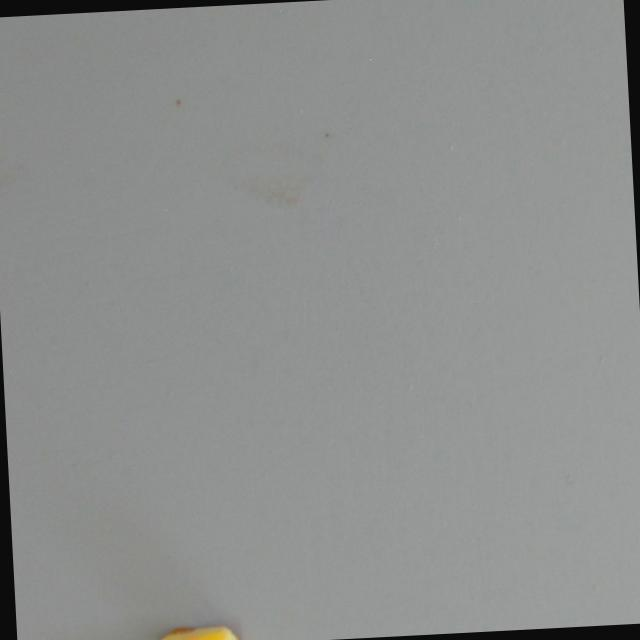pelicula: (138, 621, 246, 640)
